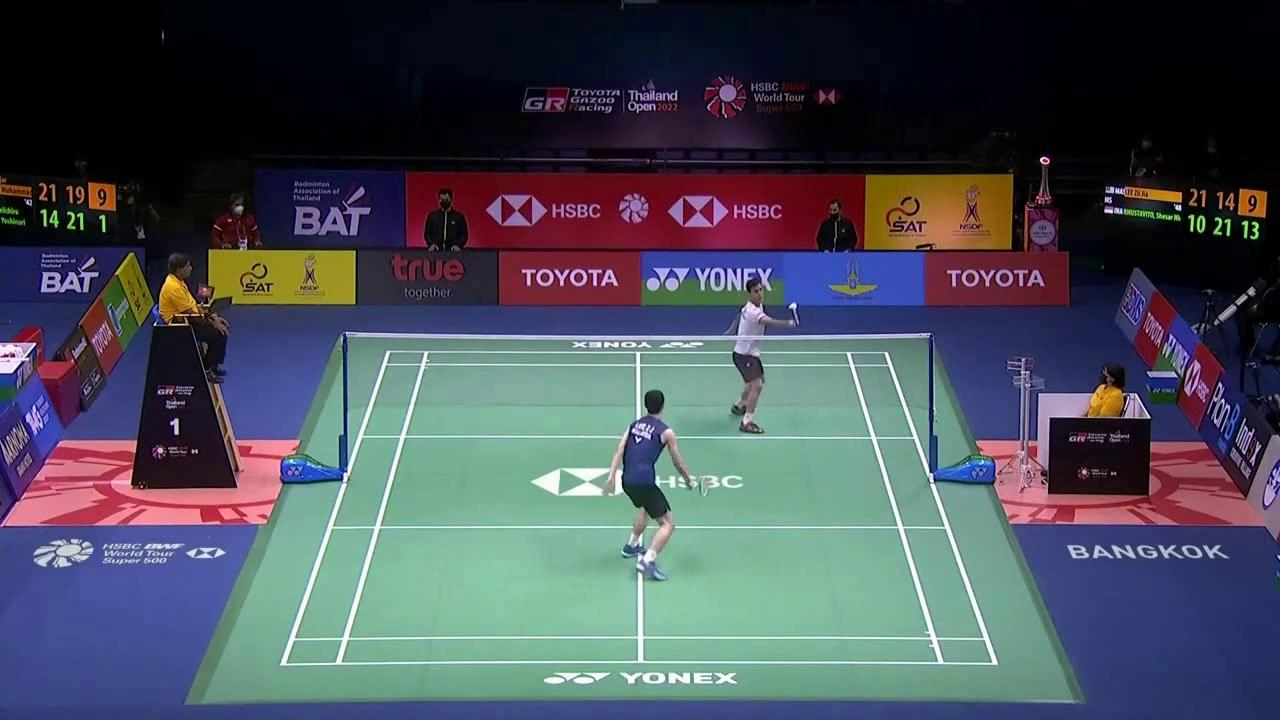racket: (687, 476, 710, 497), (792, 308, 801, 327)
shuttle: (788, 302, 798, 309)
